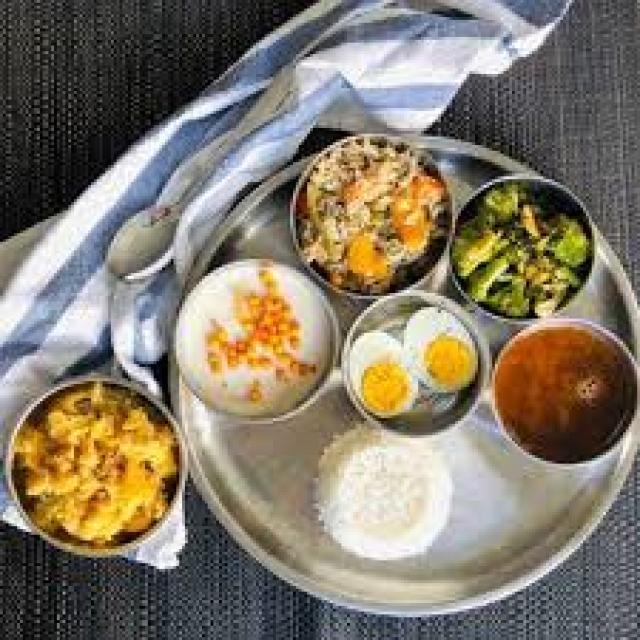roti: (288, 127, 442, 294)
sweet: (170, 260, 330, 414), (314, 443, 452, 562)
veg-fry: (14, 376, 183, 550), (287, 125, 440, 294)
